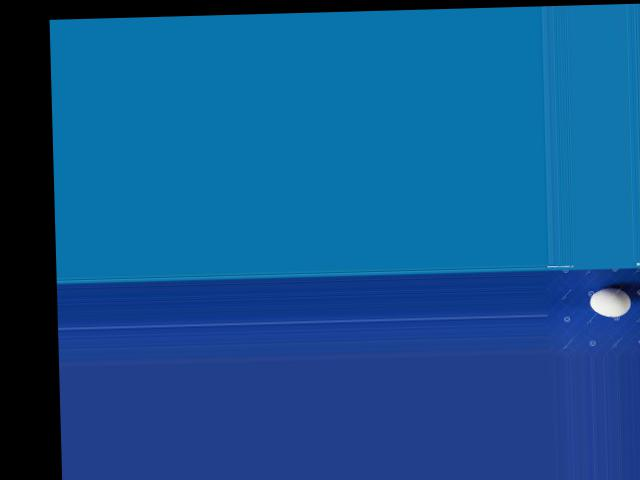egg: (589, 286, 630, 316)
